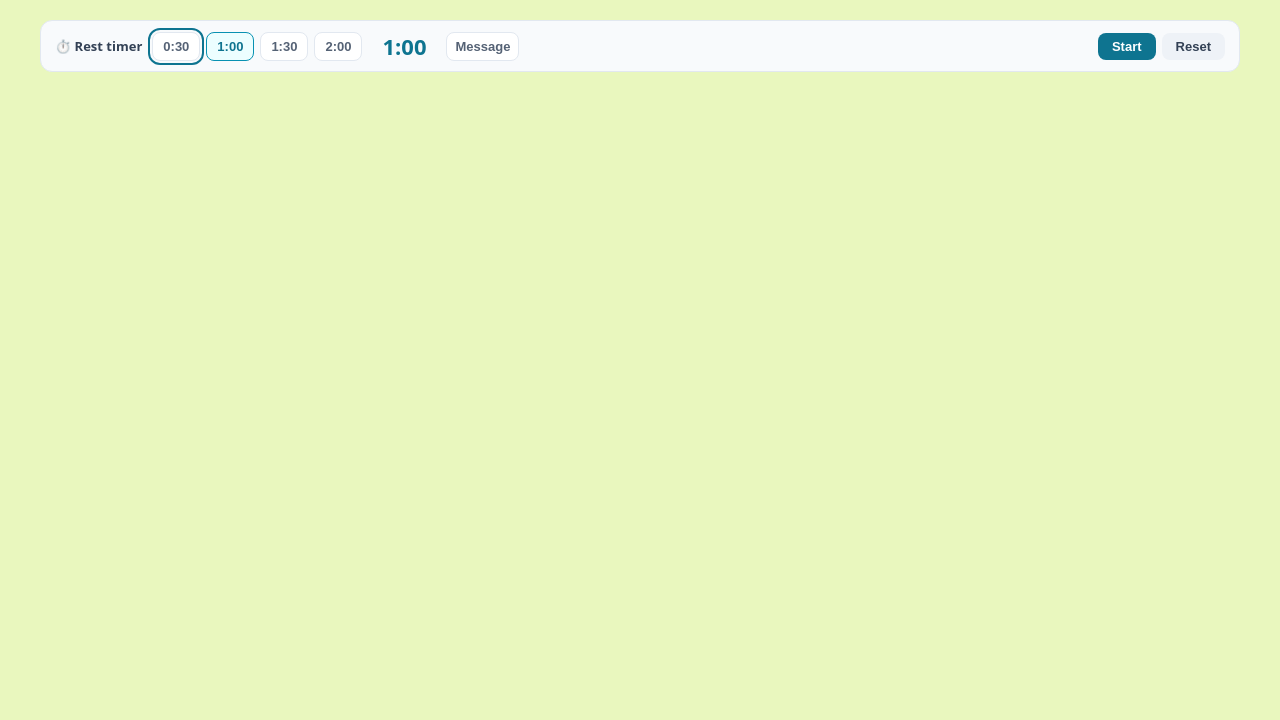
Scenario: RestTimer end-of-rest alert › moves focus into the alert and back to the timer when it closes
Click the button "0:30". click: (176, 46)
box: x1=152 y1=32 x2=200 y2=60
Wait 30000 ms
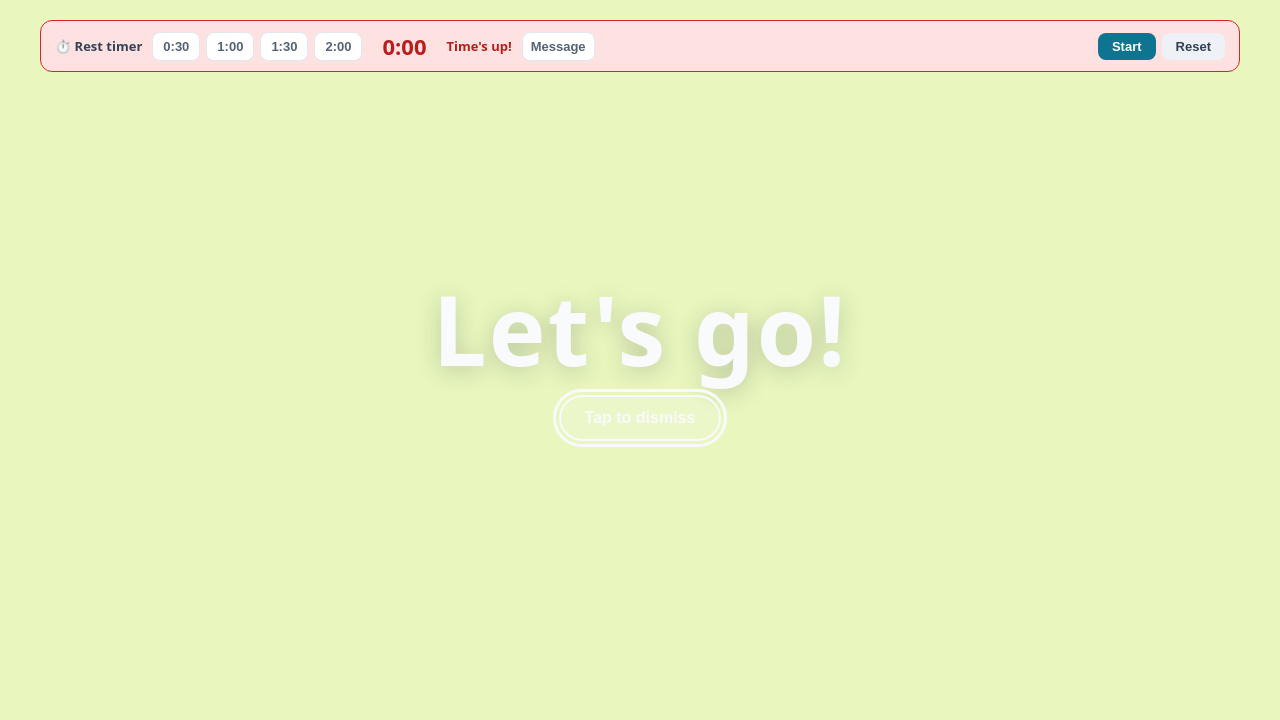
Click the button "Tap to dismiss". click: (640, 418)
box: x1=559 y1=395 x2=721 y2=441
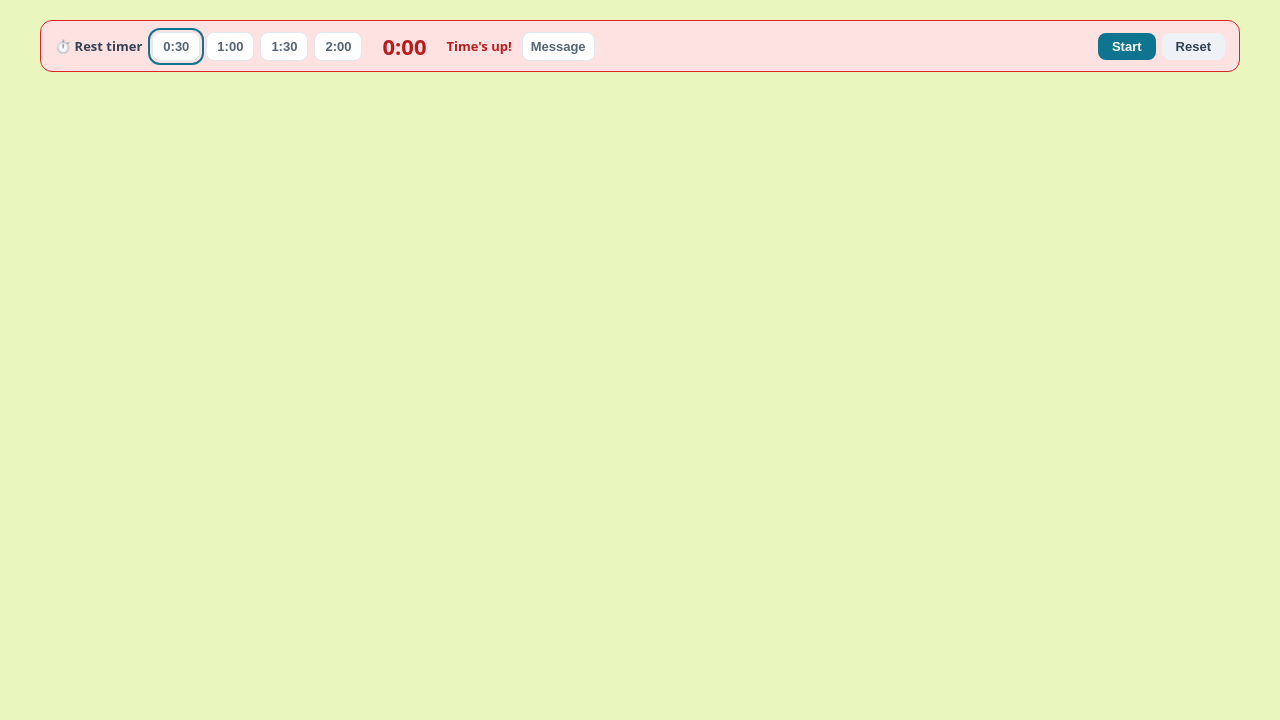
Result: the dialog with test id "rest-alert" is gone
